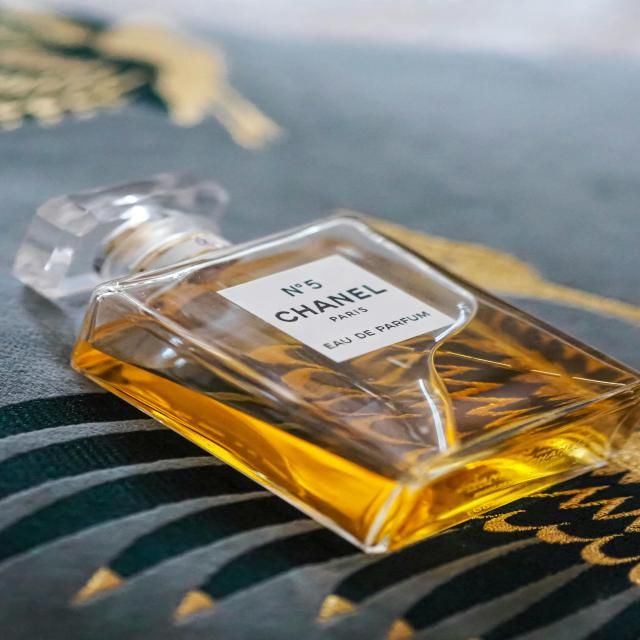electronic: (14, 165, 640, 555)
